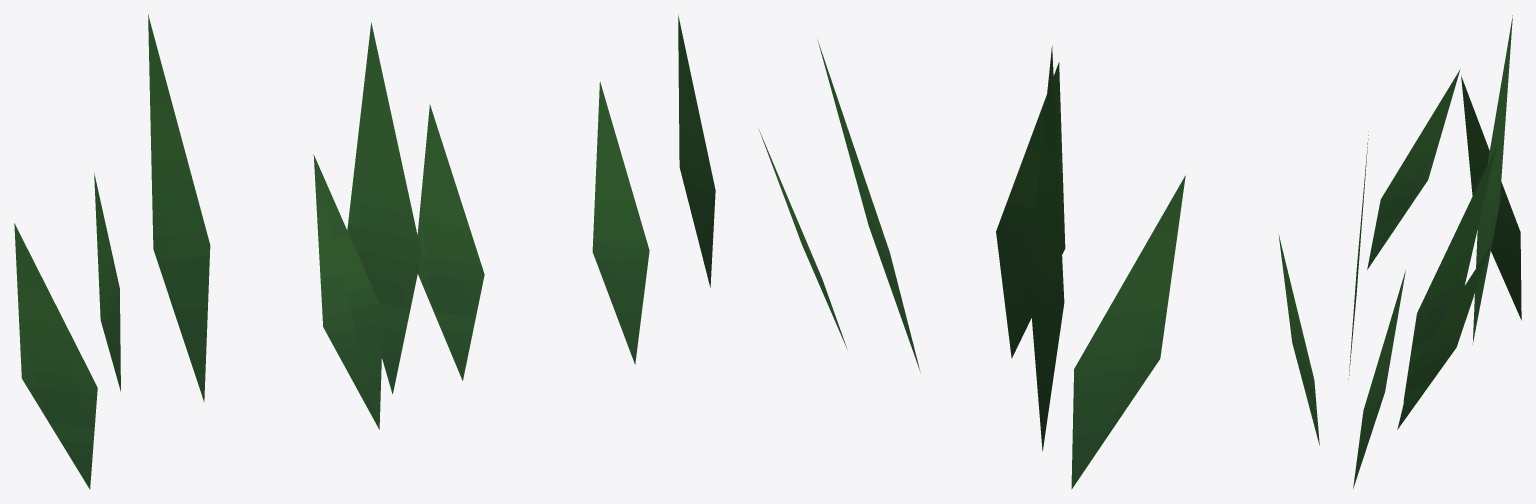
File: plants_me_dlc1_main_grass112.gltf
3 views of the same model, side by side, from view 1: azimuth 30°, elevation 25°; view 2: azimuth 150°, elevation 25°; view 3: azimuth 270°, elevation 25° (orthographic). The views are drawn at different scales.
Parts seen in each view (by area): view 1: um_plants_me_dlc1_main_grass112_model_plants_me_dlc1_main_gr; view 2: um_plants_me_dlc1_main_grass112_model_plants_me_dlc1_main_gr; view 3: um_plants_me_dlc1_main_grass112_model_plants_me_dlc1_main_gr.
Part boxes in pixels (<box>): um_plants_me_dlc1_main_grass112_model_plants_me_dlc1_main_gr: <box>14,14,649,489</box>; um_plants_me_dlc1_main_grass112_model_plants_me_dlc1_main_gr: <box>678,14,1319,489</box>; um_plants_me_dlc1_main_grass112_model_plants_me_dlc1_main_gr: <box>1348,15,1521,488</box>.
Size of the model in its own units: 0.5503 by 0.3383 by 0.1672.
1 material, 1 textured.
